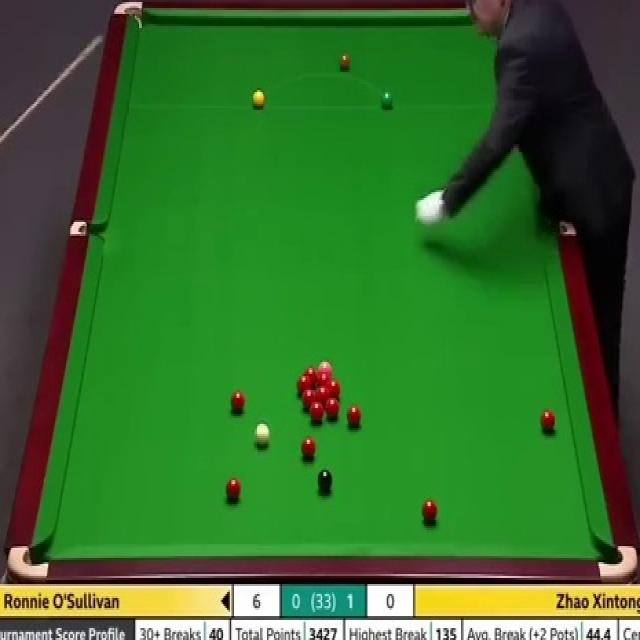pocket: (7, 543, 50, 582), (597, 542, 637, 583), (111, 0, 145, 34), (68, 222, 104, 236)
